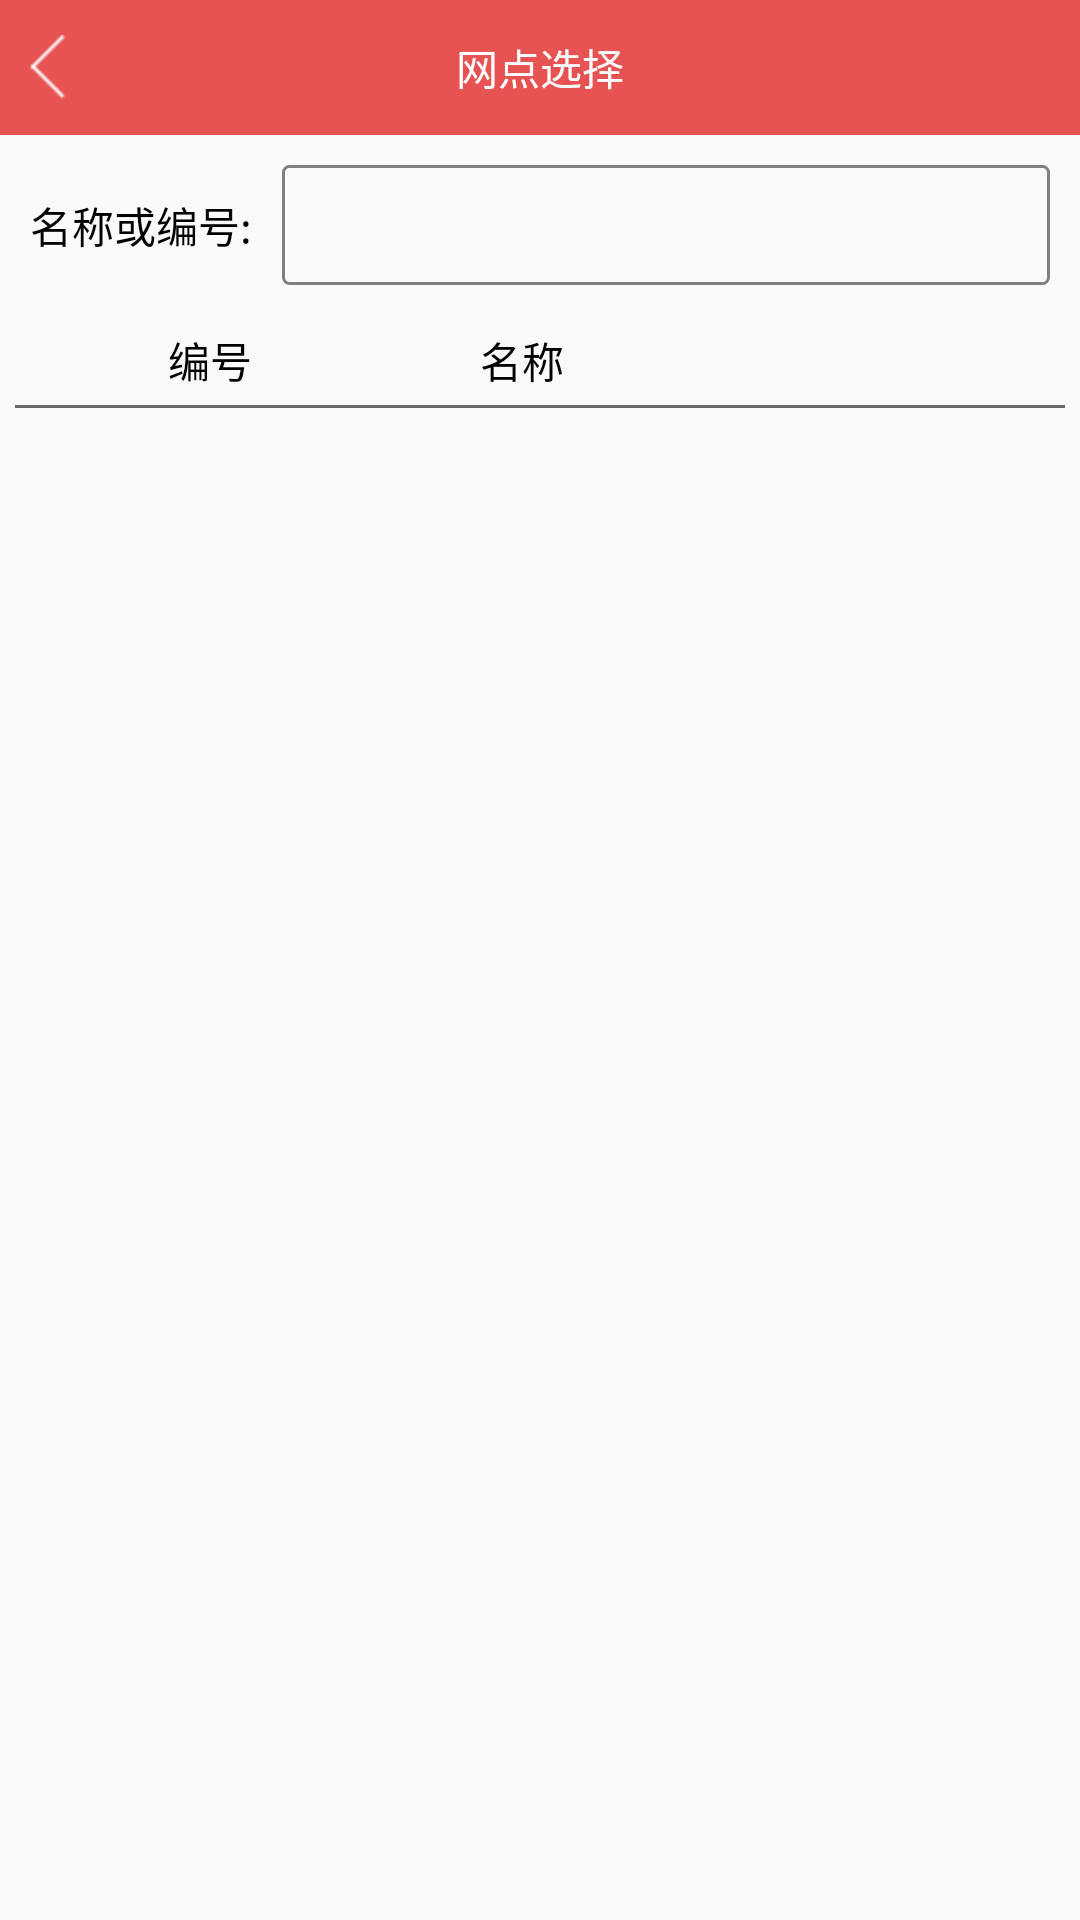

Screen size 1080px×1920px. Icon name, then its center in pixels as point (x, y):
back: point (47, 67)
